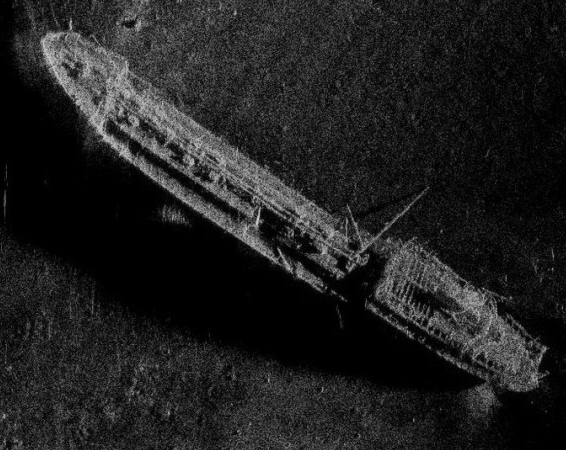ship: (39, 28, 548, 393)
